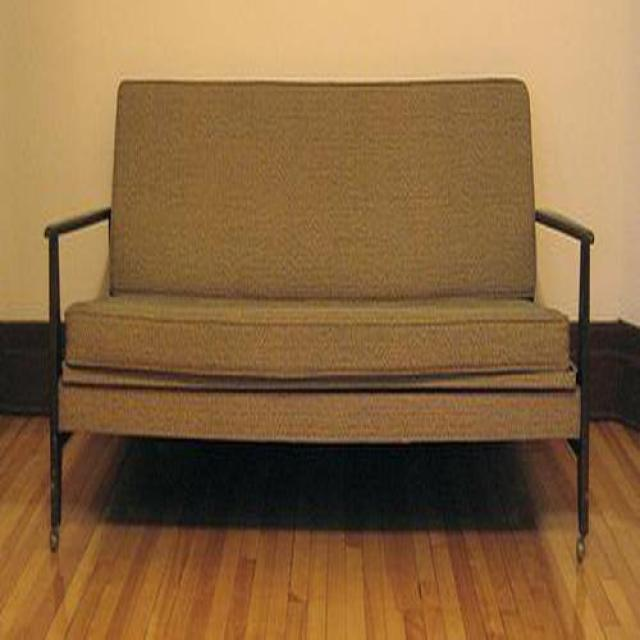sofa: (44, 78, 596, 561)
